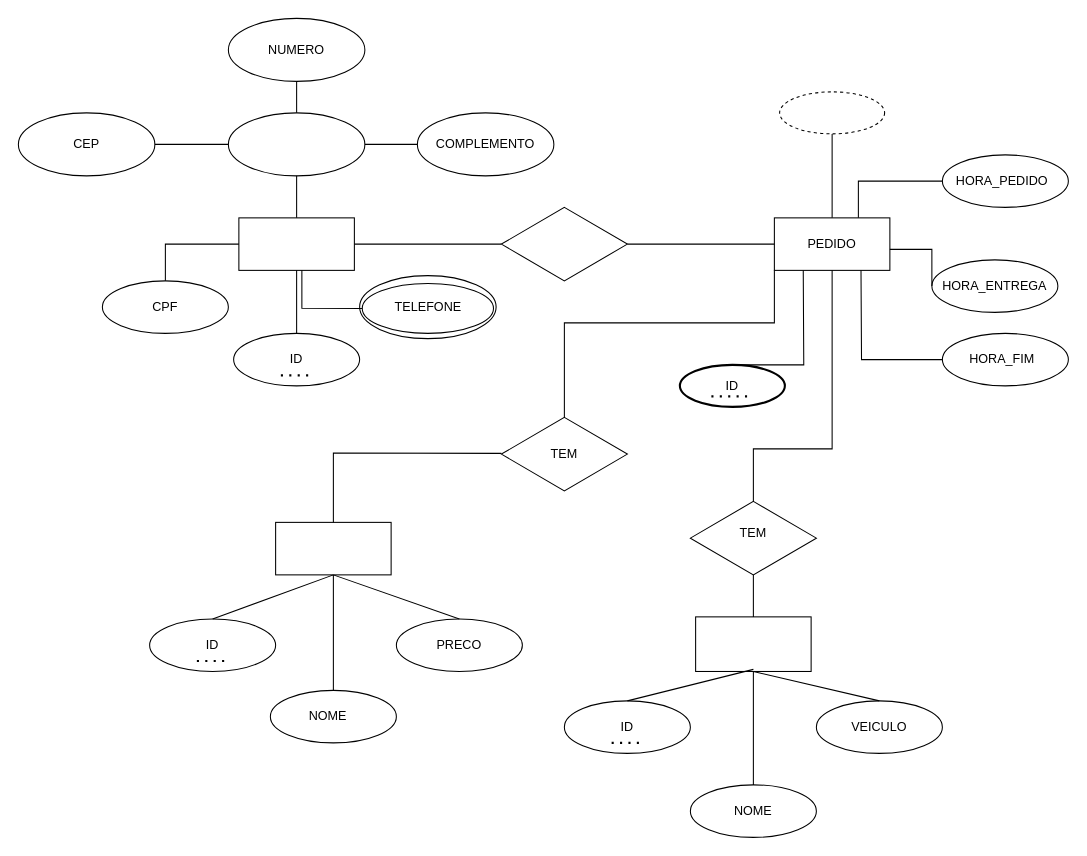
Image size: 1087x856. Some labels were removed from this diagram. Here are the shapes that lost their labels. From the top down, the centre of each, then its label:
At (832,112): "VALOR_FINAL".
At (296,144): "ENDEREÇO".
At (296,243): "CLIENTE".
At (563,243): "POSSUI".
At (333,548): "PRODUTO".
At (753,643): "ENTREGADOR".
